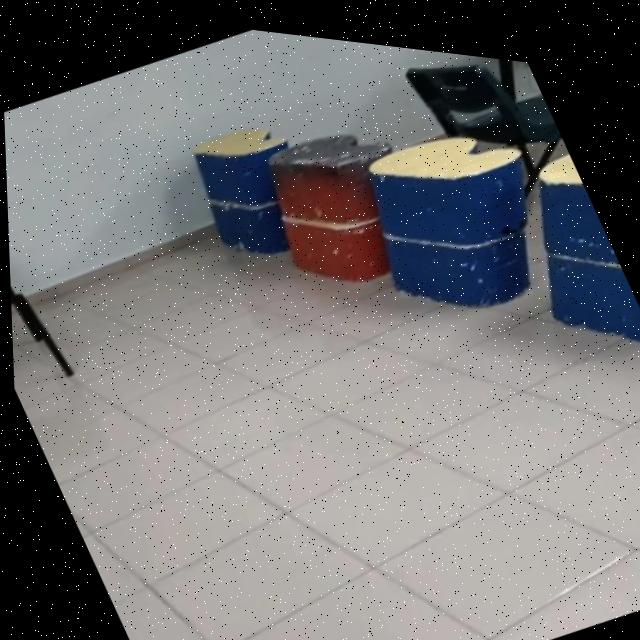sandalye: (8, 287, 69, 374)
